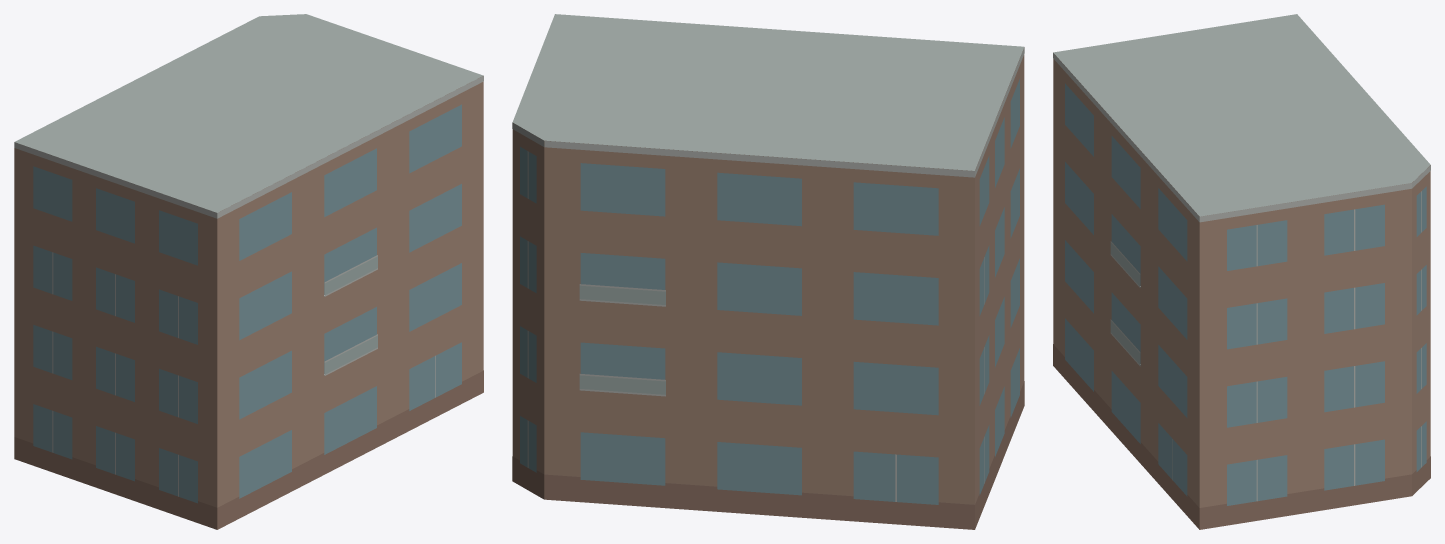
Rendered from survey-upis-32854700.glb.
3 renders of one model, left to right at view 1: azimuth 30°, elevation 25°; view 2: azimuth 150°, elevation 25°; view 3: azimuth 270°, elevation 25°, orthographic. The views are drawn at different scales.
Visible parts, largest first — view 1: survey-upis-32854700.tmp; view 2: survey-upis-32854700.tmp; view 3: survey-upis-32854700.tmp.
Part boxes in pixels (<box>): survey-upis-32854700.tmp: <box>14,14,483,529</box>; survey-upis-32854700.tmp: <box>512,14,1024,529</box>; survey-upis-32854700.tmp: <box>1053,14,1430,529</box>.
Bounding box in the file's own units: 18.32 × 13.2 × 14.43.
